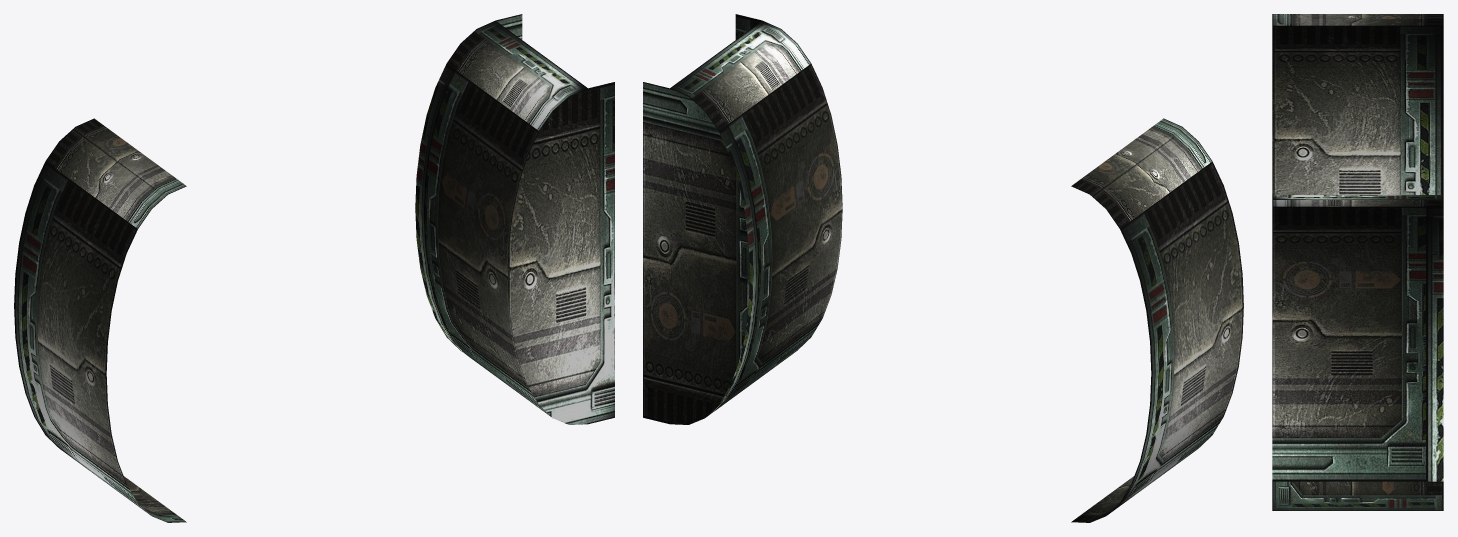
File: station_doors.obj
The picture shows the model from 3 angles, left to right: view 1: azimuth 30°, elevation 25°; view 2: azimuth 150°, elevation 25°; view 3: azimuth 270°, elevation 25°; orthographic projection. The views are drawn at different scales.
Visible parts, largest first — view 1: Doors_basestation.002; view 2: Doors_basestation.002; view 3: Doors_basestation.002.
Part boxes in pixels (box(x1,y1,x2,y2)): Doors_basestation.002: box(14, 14, 614, 522); Doors_basestation.002: box(643, 14, 1243, 522); Doors_basestation.002: box(1272, 14, 1443, 510).
Bounding box in the file's own units: 17.33 × 10.94 × 5.47.
